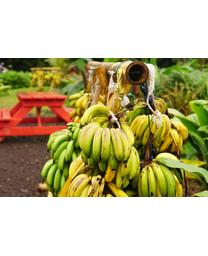banana: (42, 106, 189, 197)
